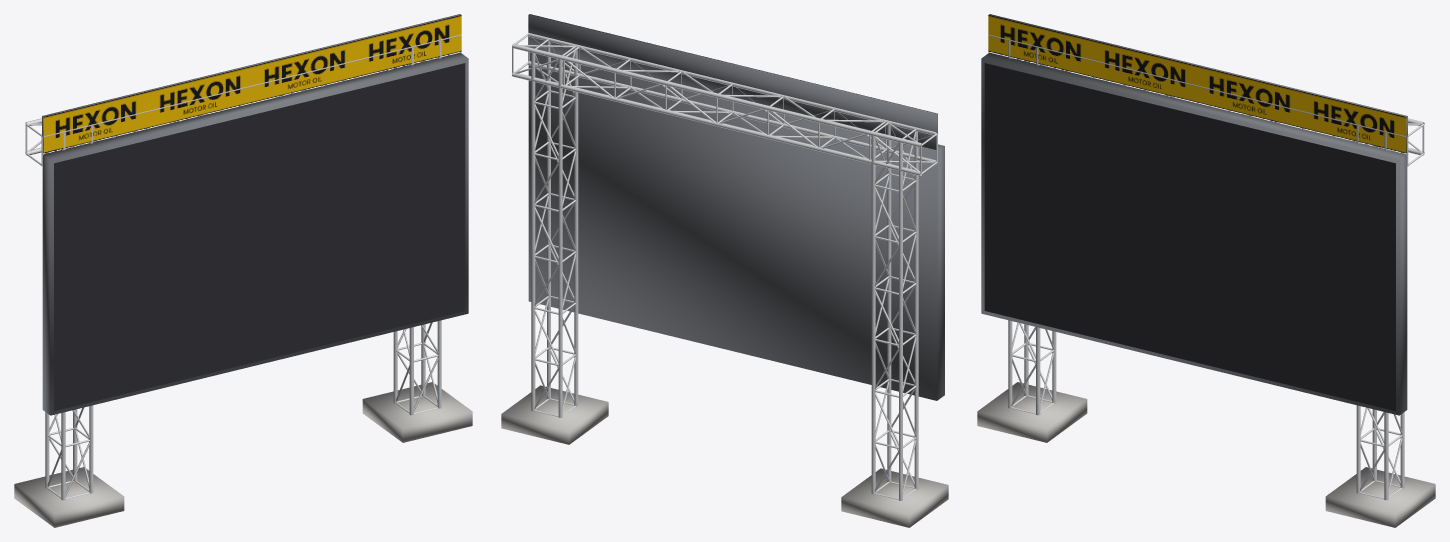
Rendered from video_screen.glb.
3 renders of one model, left to right at view 1: azimuth 30°, elevation 25°; view 2: azimuth 150°, elevation 25°; view 3: azimuth 330°, elevation 25°, orthographic. The views are drawn at different scales.
Visible parts, largest first — view 1: video_screen; view 2: video_screen; view 3: video_screen.
Part boxes in pixels (left/top/right/bottom): video_screen: left=14, top=14, right=472, bottom=527; video_screen: left=501, top=14, right=948, bottom=527; video_screen: left=977, top=14, right=1435, bottom=527.
Size of the model in its own units: 12.05 by 11.05 by 2.
Materials: 5 (1 with a texture image).
